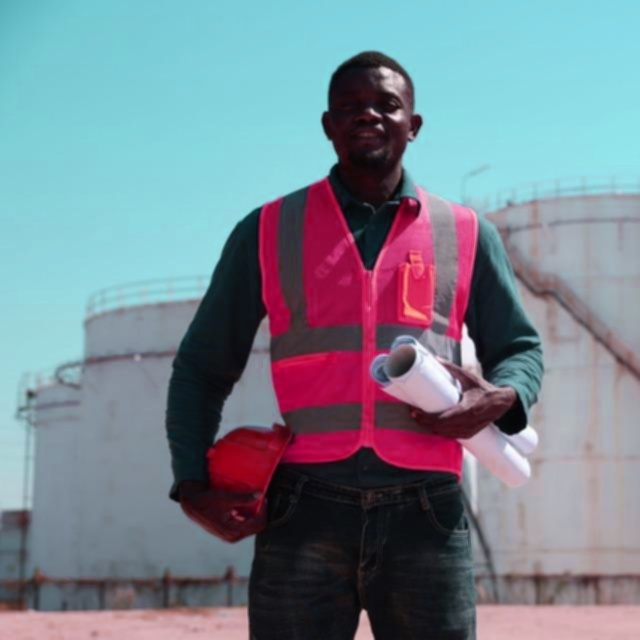Con_Chaleco: (255, 182, 480, 475)
Sin_Casco_Mascarrilla: (324, 49, 424, 183)
